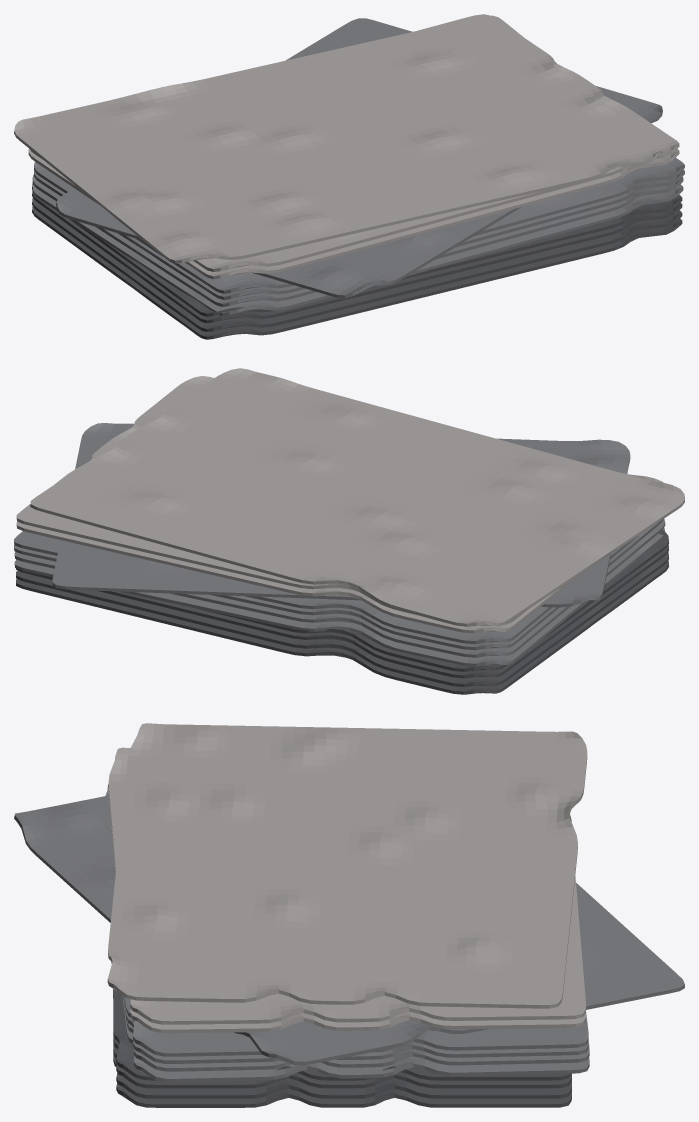
File: Assets.fbx_Pappierstapel.fbx
The picture shows the model from 3 angles, top to bottom: view 1: azimuth 30°, elevation 25°; view 2: azimuth 150°, elevation 25°; view 3: azimuth 270°, elevation 25°; orthographic projection. The views are drawn at different scales.
Parts seen in each view (by area): view 1: riesen Stapel; view 2: riesen Stapel; view 3: riesen Stapel.
Boxes of the visible parts, x1=… form: riesen Stapel: x1=14, y1=14, x2=684, y2=339; riesen Stapel: x1=14, y1=368, x2=684, y2=694; riesen Stapel: x1=14, y1=723, x2=684, y2=1107.
Size of the model in its own units: 32.08 by 4.73 by 28.21.
